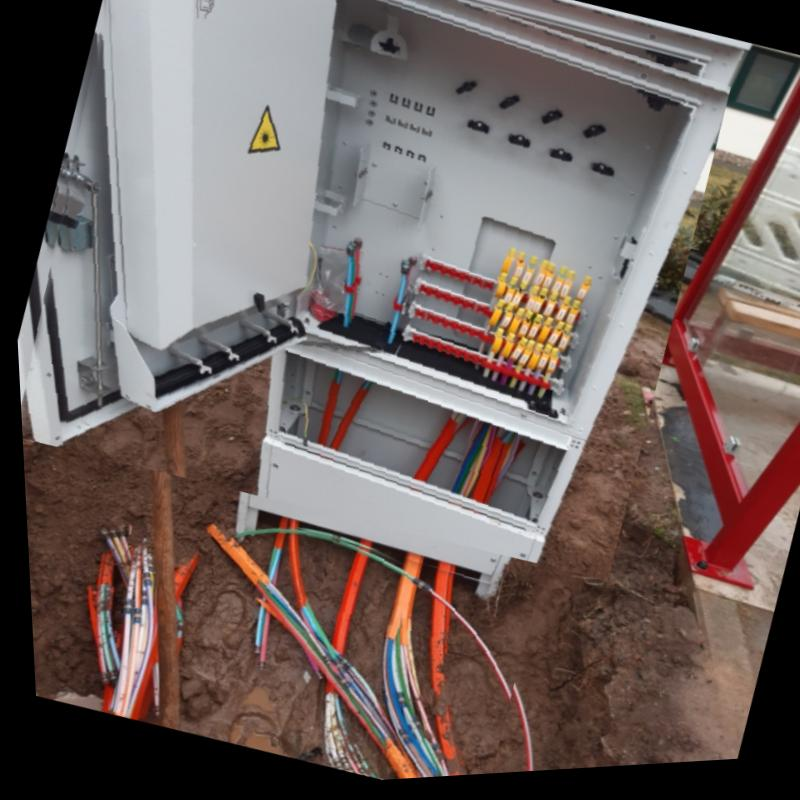NT-Gehause: (18, 0, 731, 567)
Orang-Speednetrohrchen: (203, 526, 456, 783)
